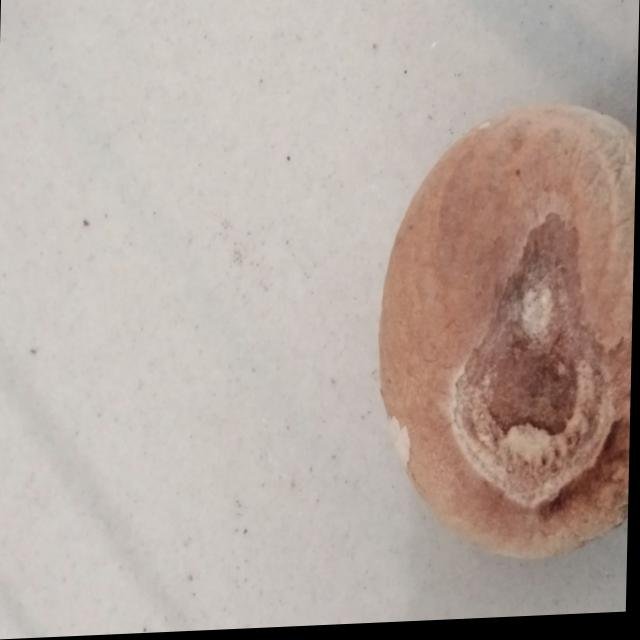karigot: (351, 103, 638, 594)
